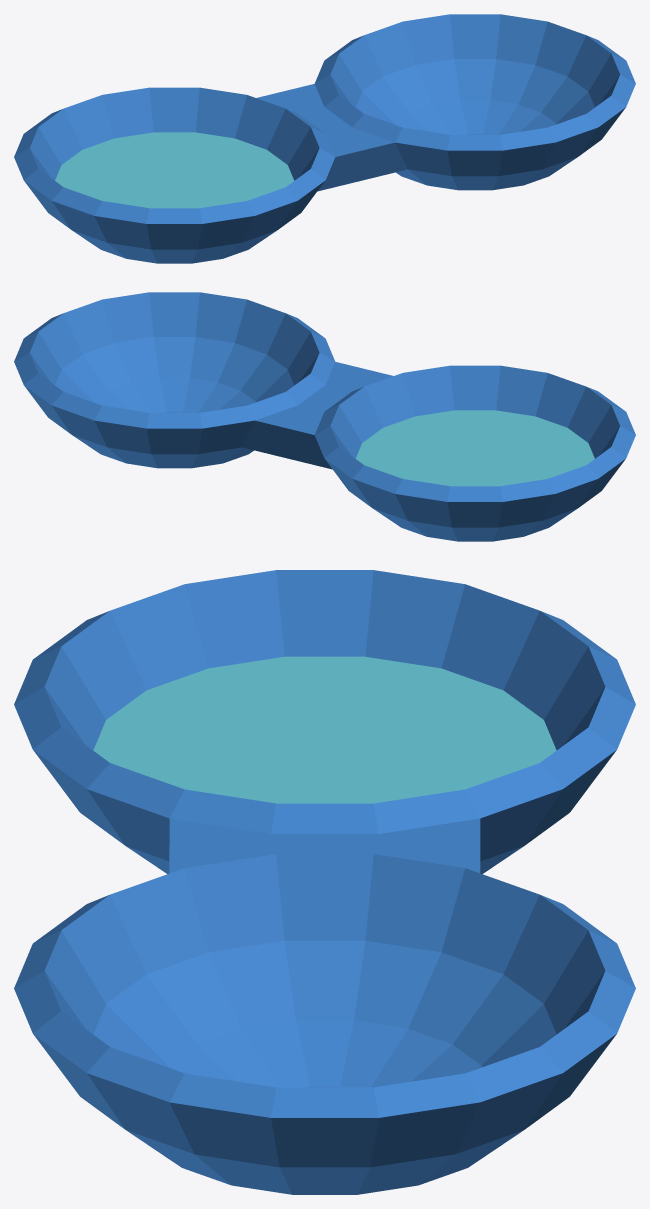
Rendered from CatCup_Material.fbx.
3 views of the same model, one above another, from view 1: azimuth 30°, elevation 25°; view 2: azimuth 150°, elevation 25°; view 3: azimuth 270°, elevation 25° (orthographic). The views are drawn at different scales.
Parts seen in each view (by area): view 1: CatCup; view 2: CatCup; view 3: CatCup.
Boxes of the visible parts, bbox=[...] form: CatCup: bbox=[14, 14, 635, 263]; CatCup: bbox=[14, 292, 635, 541]; CatCup: bbox=[14, 570, 635, 1194].
Size of the model in its own units: 0.5833 by 0.0922 by 0.2824.
